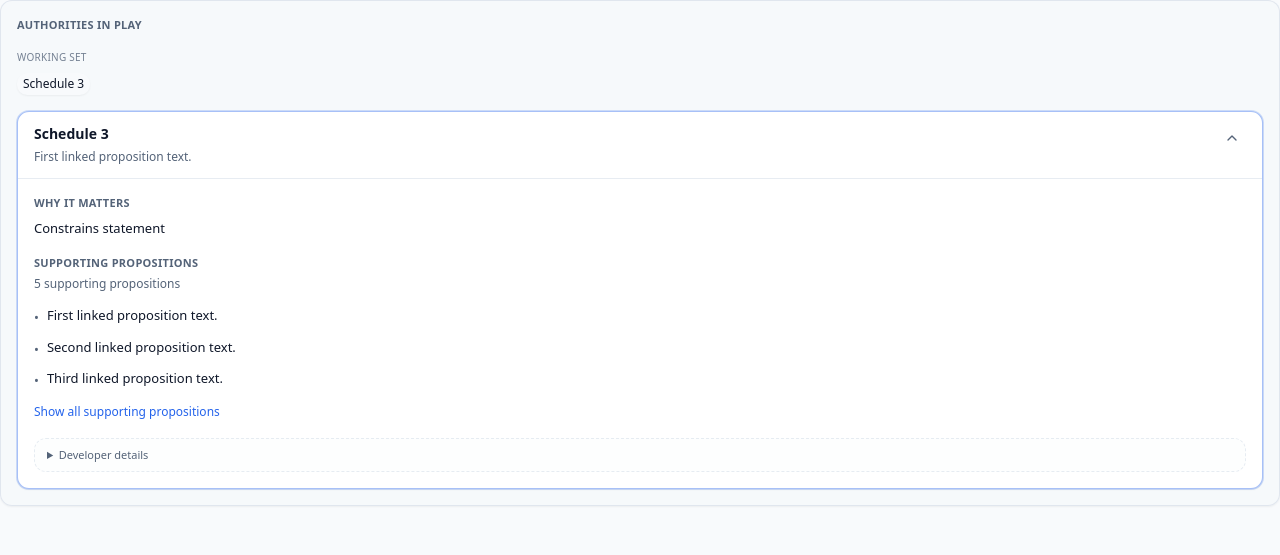
Test case: LegalContextPanel workspace › shows human summaries and supporting proposition bullets with show all
Expected: the 1st text "First linked proposition text." is shown, [34,148,192,165]
Expected: the text "5 supporting propositions" is shown, [34,275,180,292]
Step 1. Click the button "Show all supporting propositions" → [127, 412], box [34,403,220,421]
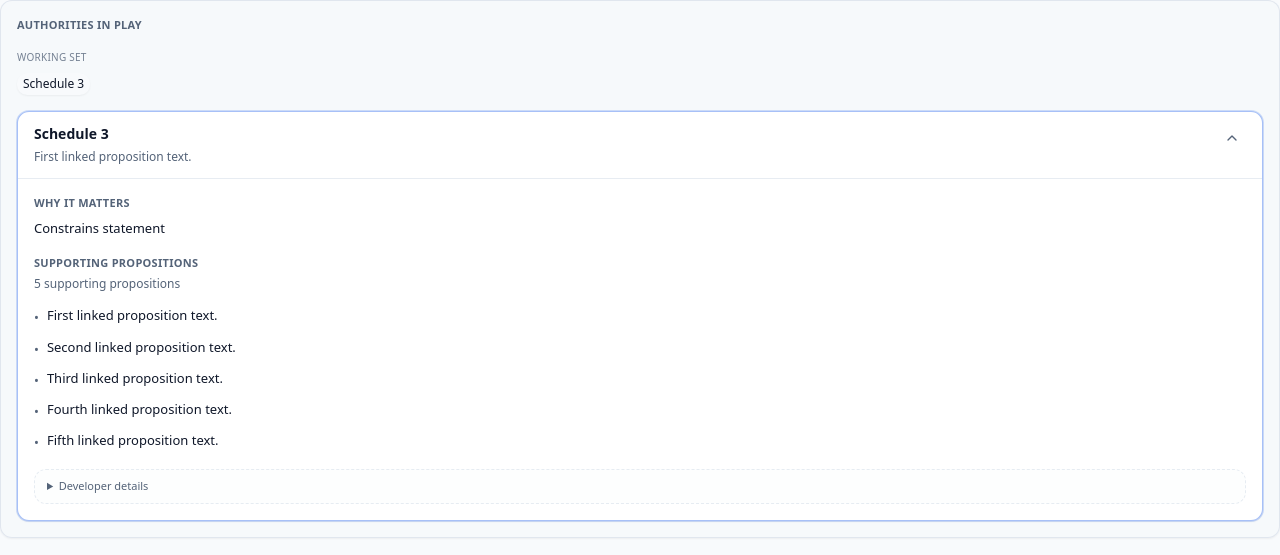
Expected: the number of list items with test id "legal-context-proposition" is 5, [34,306,218,326]; [34,338,236,358]; [34,369,223,389]; [34,400,232,420]; [34,431,218,451]
